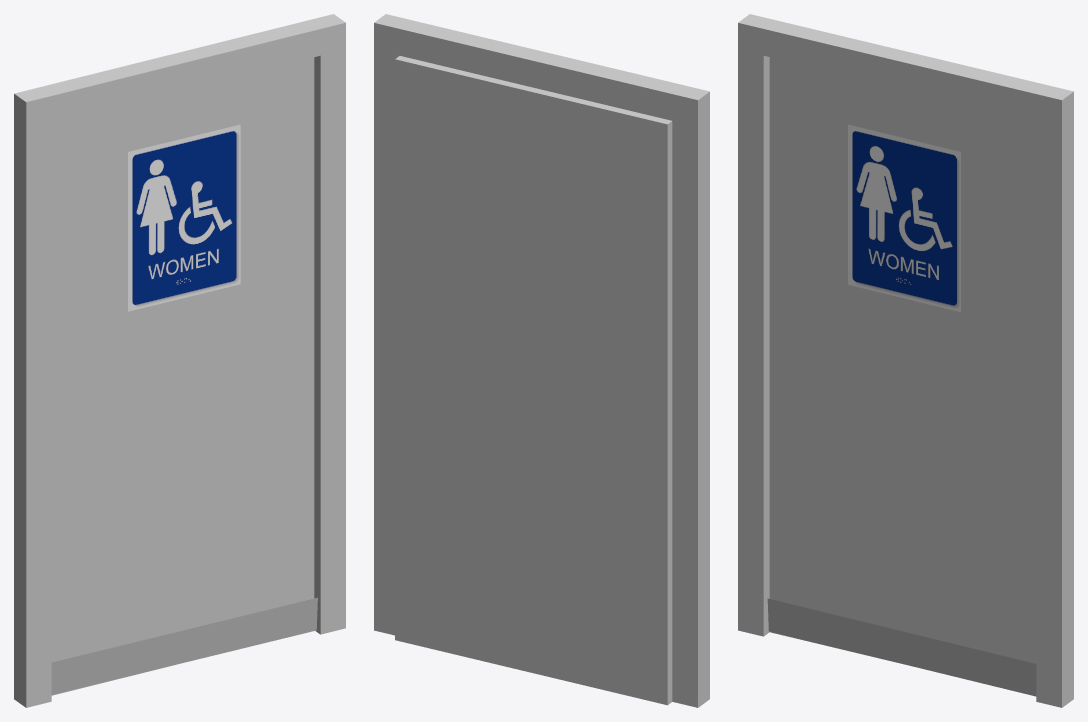
File: Women_s_bathroom_door.FBX
3 renders of one model, left to right at view 1: azimuth 30°, elevation 25°; view 2: azimuth 150°, elevation 25°; view 3: azimuth 330°, elevation 25°, orthographic.
Parts seen in each view (by area): view 1: womens door, Plane003, Plane001; view 2: womens door; view 3: womens door, Plane003, Plane001.
Boxes of the visible parts, x1,y1,x2,y2 form: womens door: [14, 14, 345, 707]; Plane003: [128, 124, 240, 311]; Plane001: [51, 597, 317, 694]; womens door: [374, 14, 709, 707]; womens door: [738, 14, 1073, 707]; Plane003: [848, 124, 960, 312]; Plane001: [767, 598, 1036, 696].
Bounding box in the file's own units: 25.21 × 45.38 × 2.48.
